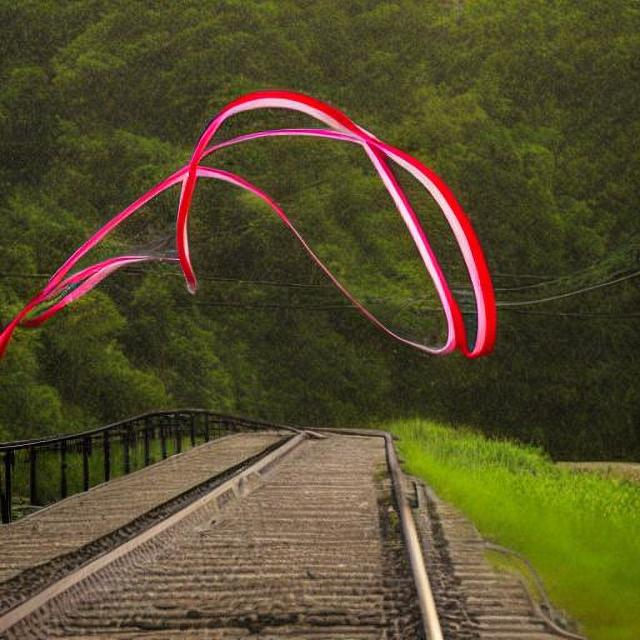floating object: (2, 74, 500, 353)
